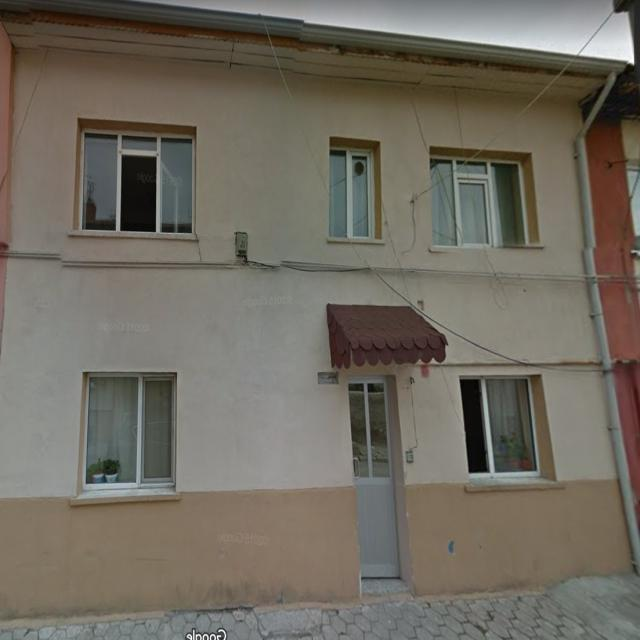Building: (1, 0, 637, 631)
